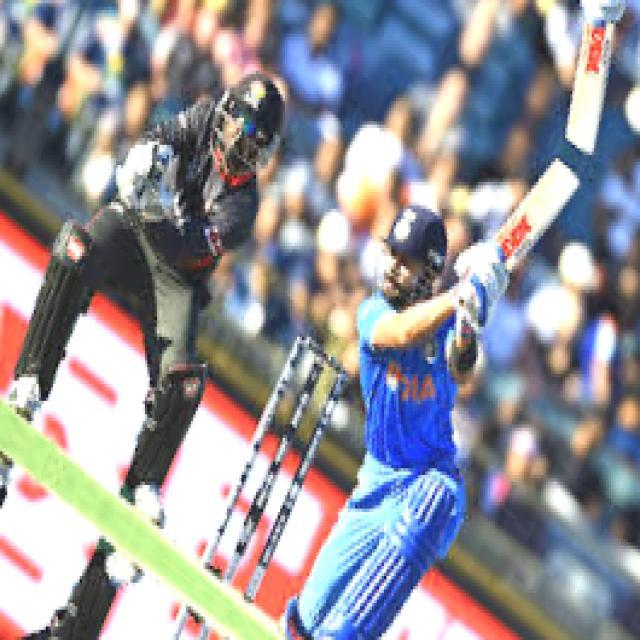bat: (496, 157, 584, 268)
toe: (556, 156, 586, 186)
